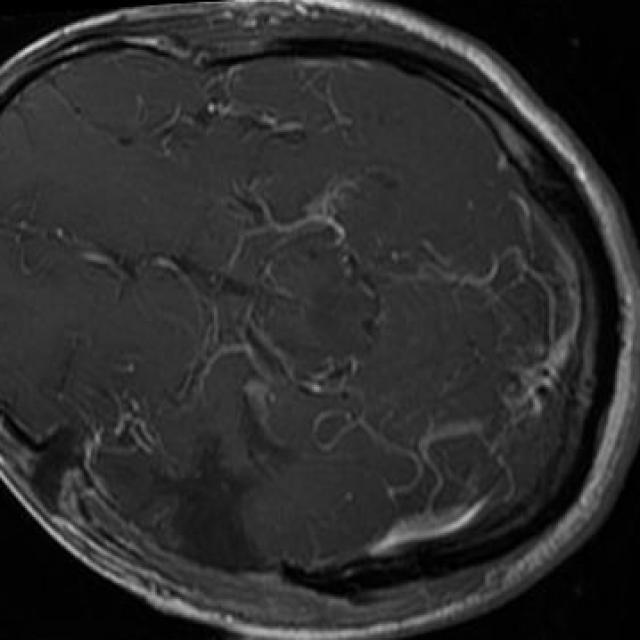glioma: (160, 444, 266, 574)
